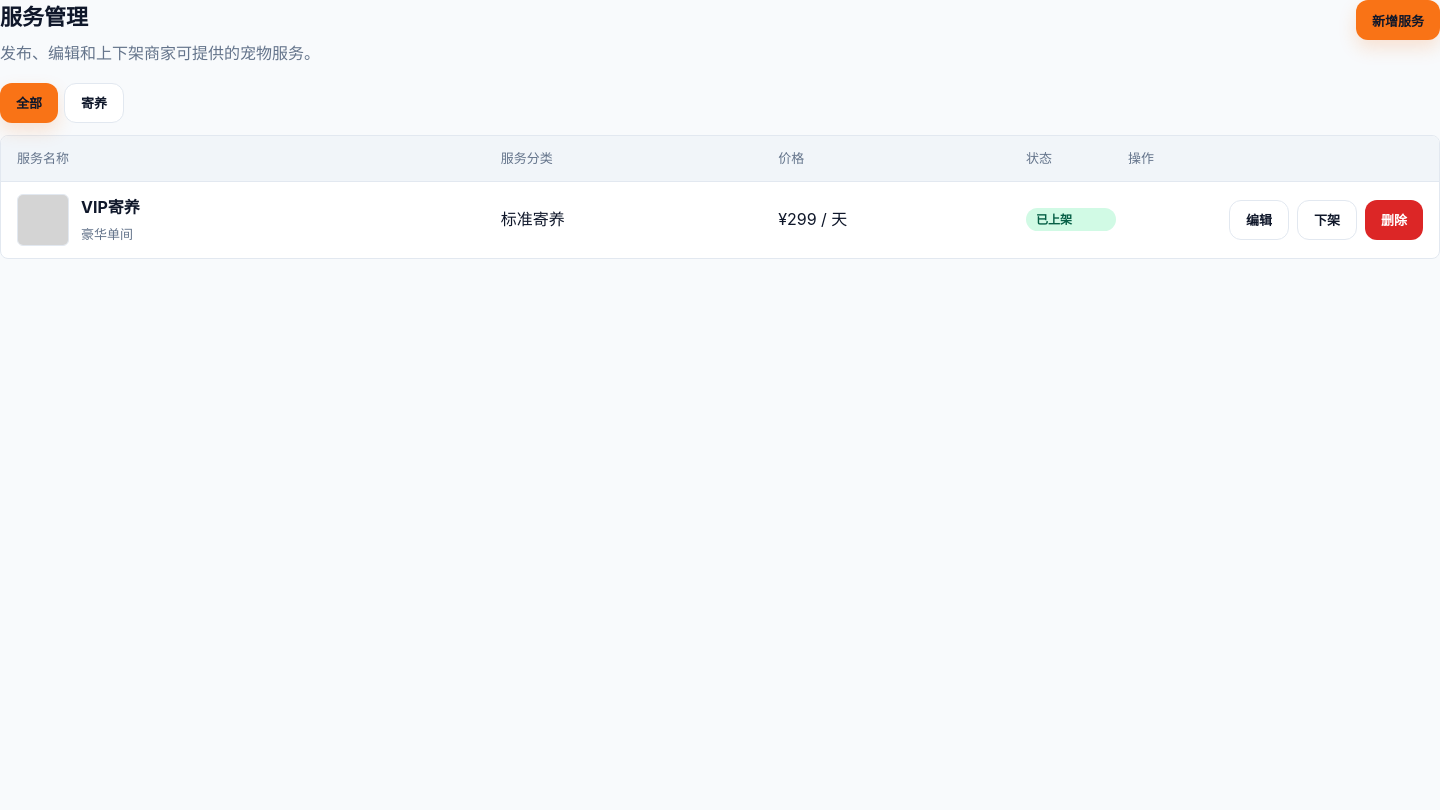
Test case: MerchantServices 服务产品编辑器 › F-MGT-002 编辑时管理详情回填标量字段与图册顺序/封面
What coordinates should you click on to do the following:
click the button "编辑"
I would click on:
 (1259, 220)
Its box is [1229,200,1289,240].
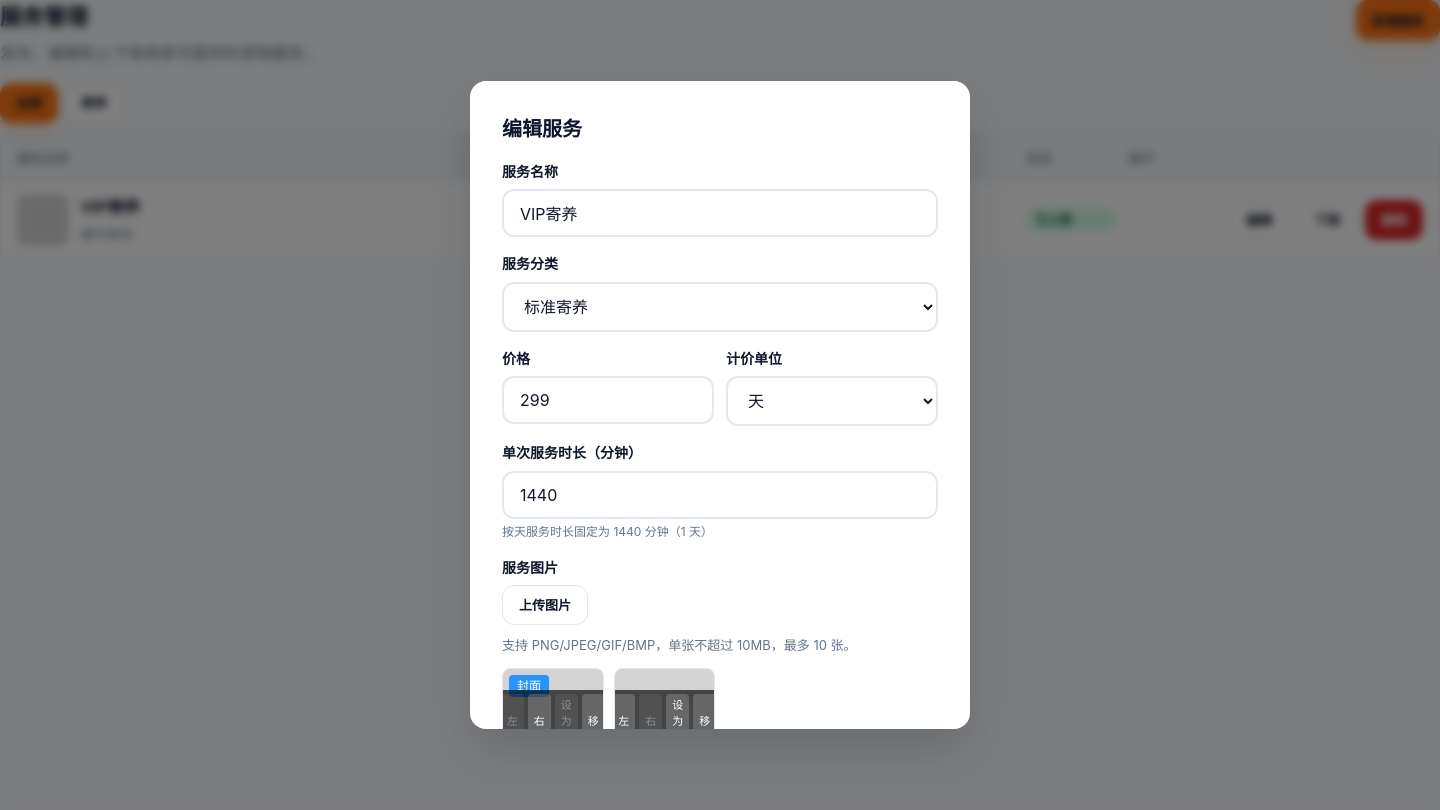
Expected: the field with placeholder "例如：标准寄养" holds "VIP寄养", [502,189,938,237]
Expected: the number field with placeholder "0.00" below "计价单位" holds "299", [502,376,714,424]
Expected: the number of elements with class "cover-badge" is 1, [509,675,549,697]
